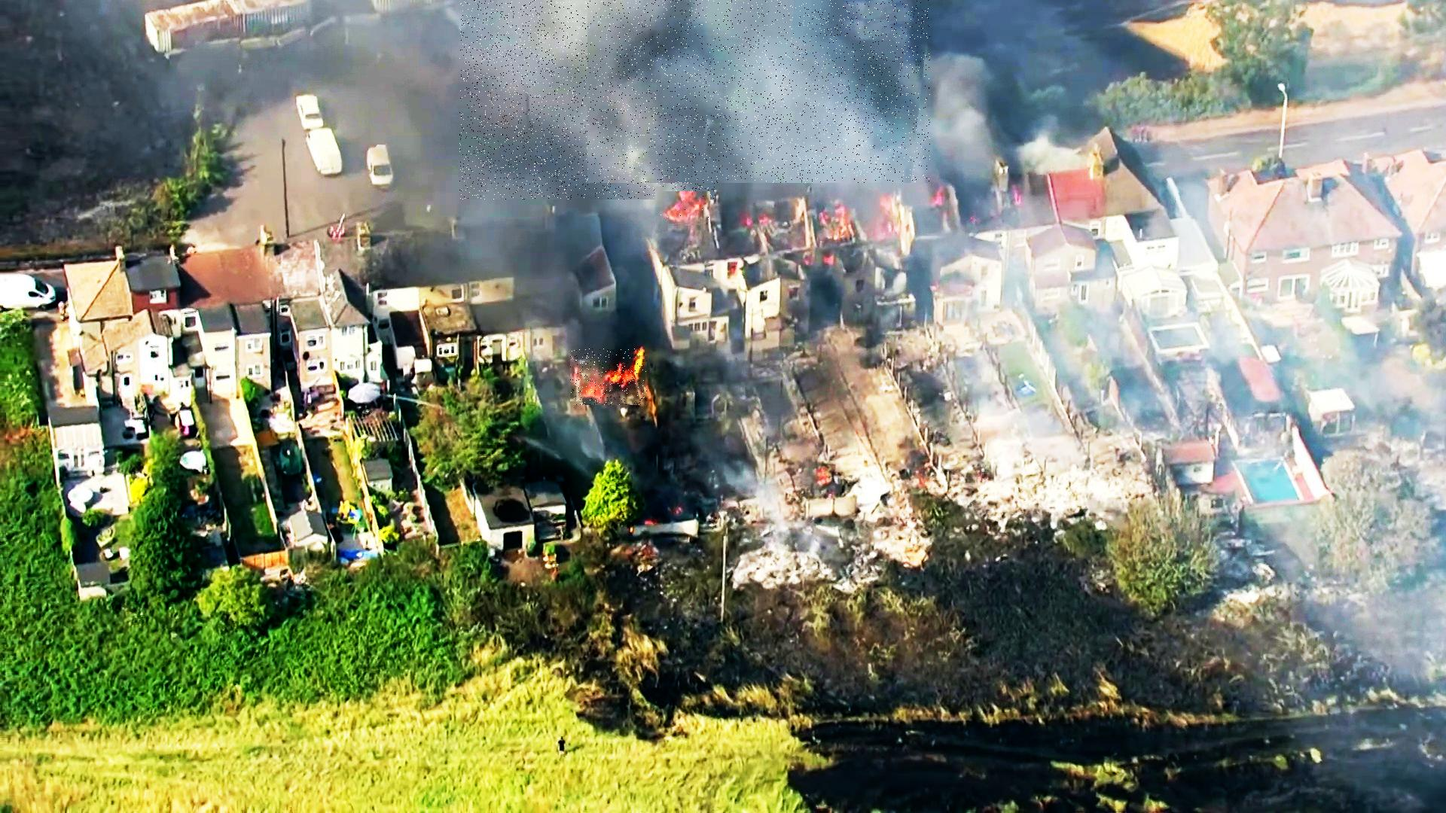fire: (570, 349, 648, 405), (655, 192, 710, 228)
smoke: (588, 0, 931, 183), (459, 0, 715, 199)
